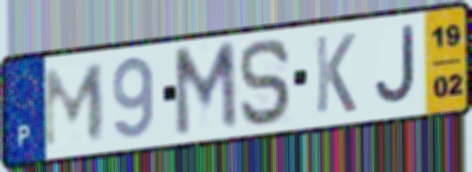9: (110, 53, 157, 143)
J: (372, 22, 419, 109)
K: (312, 31, 359, 117)
M: (170, 38, 241, 142), (40, 61, 108, 151)
S: (236, 36, 295, 128)
